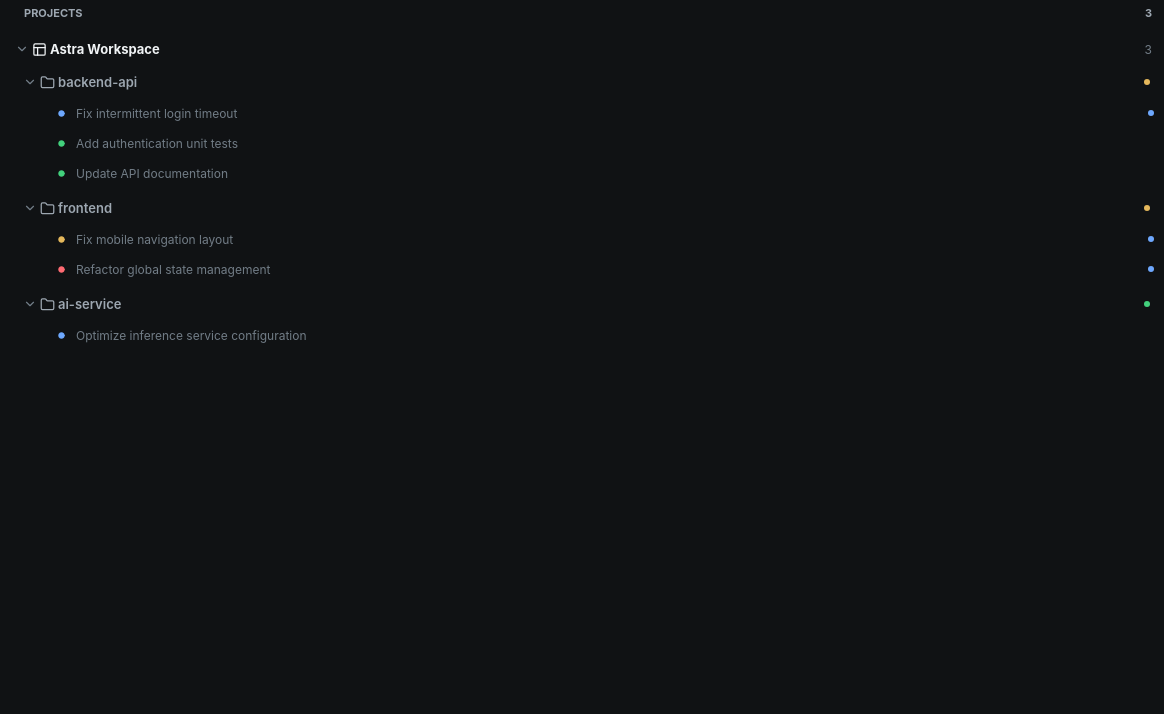
ProjectSessionTree › groups sessions by project and creates stable deep links
The width and height of the screenshot is (1164, 714).
Expected: the element named "Projects and sessions" is shown, left=12, top=35, right=1154, bottom=342
Expected: the link "backend-api" is shown, left=58, top=74, right=137, bottom=90
Click the link "Fix intermittent login timeout" at (157, 113), box left=58, top=106, right=1154, bottom=120
(page scrolled)
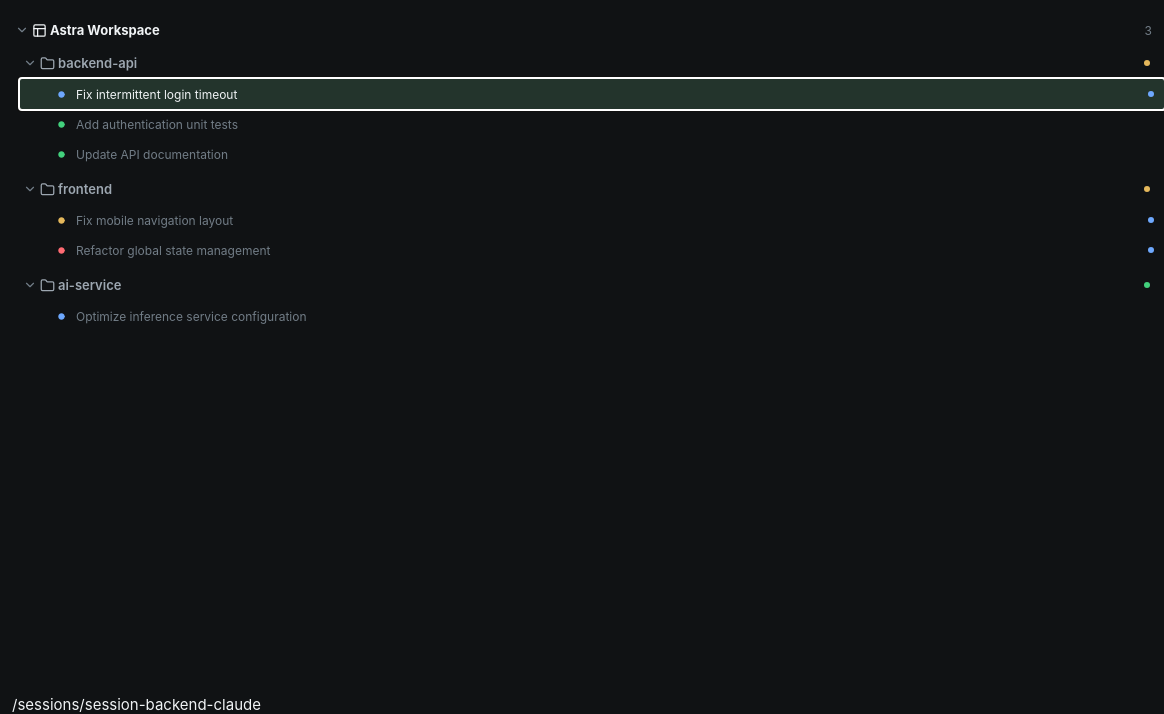
Expected: the text "/sessions/session-backend-claude" is shown, left=12, top=695, right=261, bottom=713
